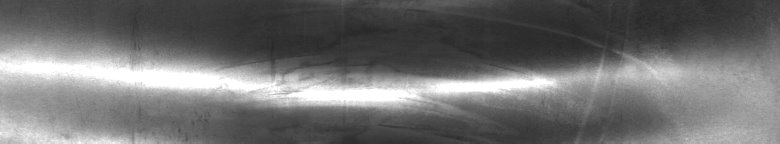ke: (76, 4, 686, 136)
